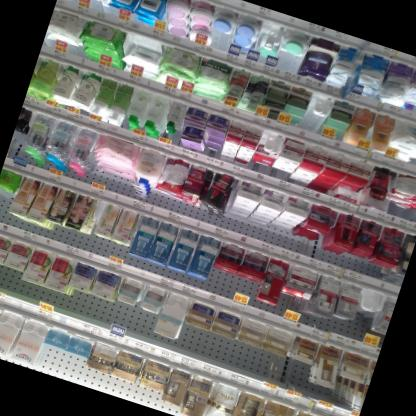empty_space: (349, 288, 378, 336), (274, 49, 301, 75), (129, 33, 162, 54), (209, 31, 229, 54)
